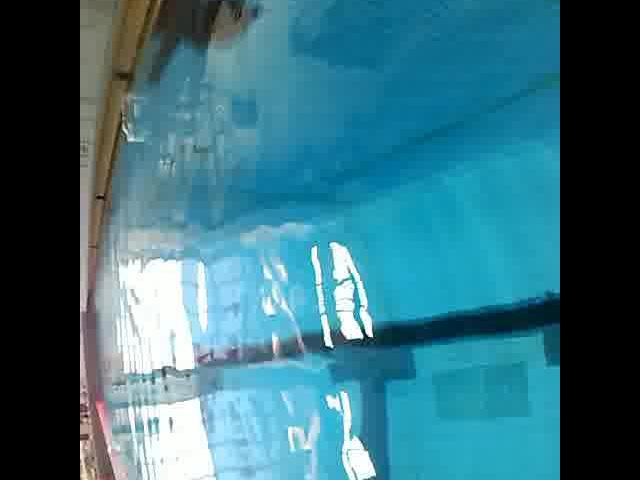Bottle: (122, 88, 142, 146)
